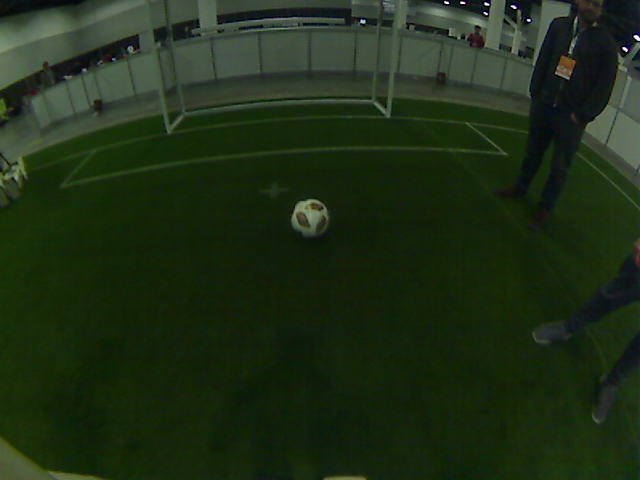ball: (295, 205, 323, 229)
goalpost: (155, 87, 179, 136), (379, 75, 391, 117)
robot: (6, 157, 16, 197)
